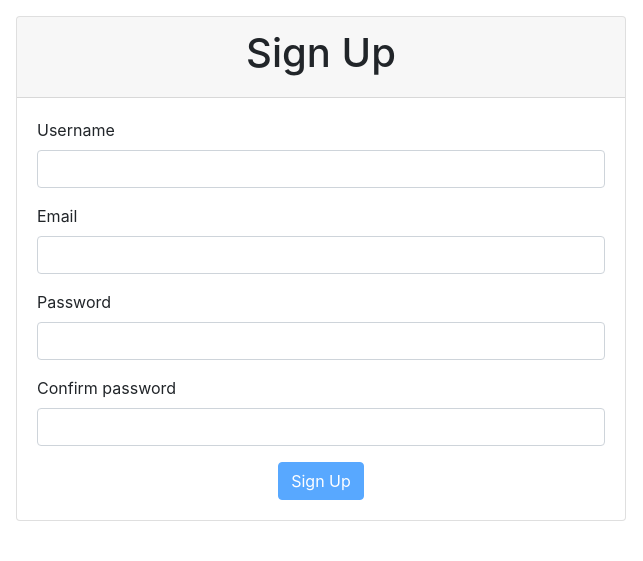
it: Sign Up page › interactions › displays a spinner while request is in progress
Type "Joe Blow" into the field labelled "Username".
click(321, 169); type("Joe Blow")  # box [37,150,605,188]
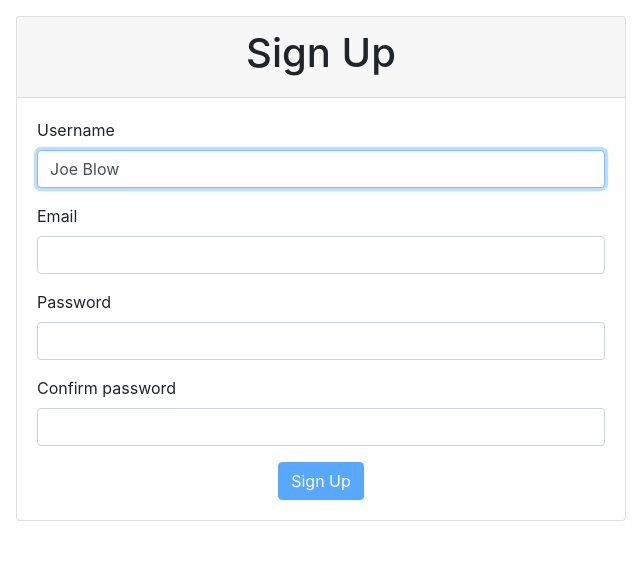
Type "user123@example.com" into the field labelled "Email".
click(321, 255); type("user123@example.com")  # box [37,236,605,274]
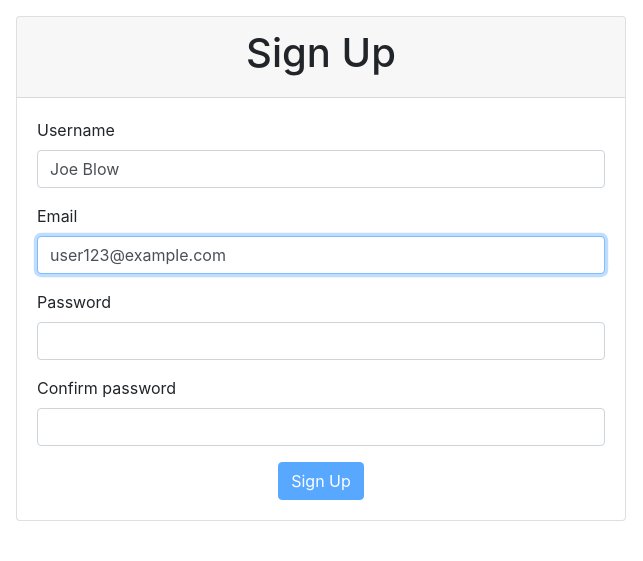
Type "abc123" into the password field labelled "Password".
click(321, 341); type("abc123")  # box [37,322,605,360]
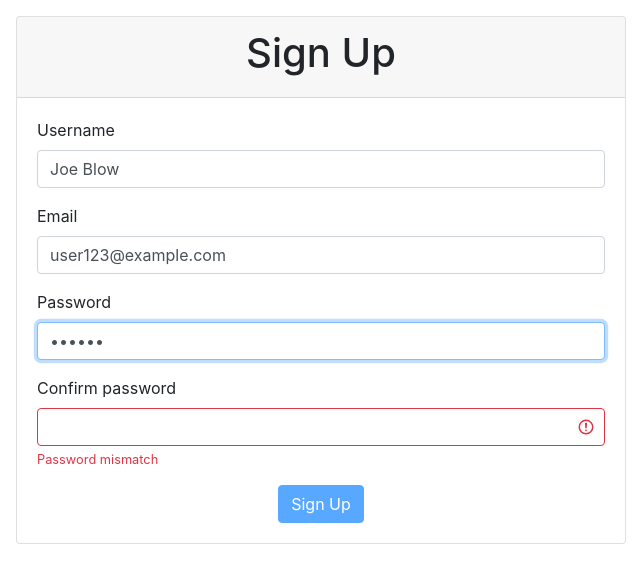
Type "abc123" into the password field labelled "Confirm password".
click(321, 427); type("abc123")  # box [37,408,605,446]
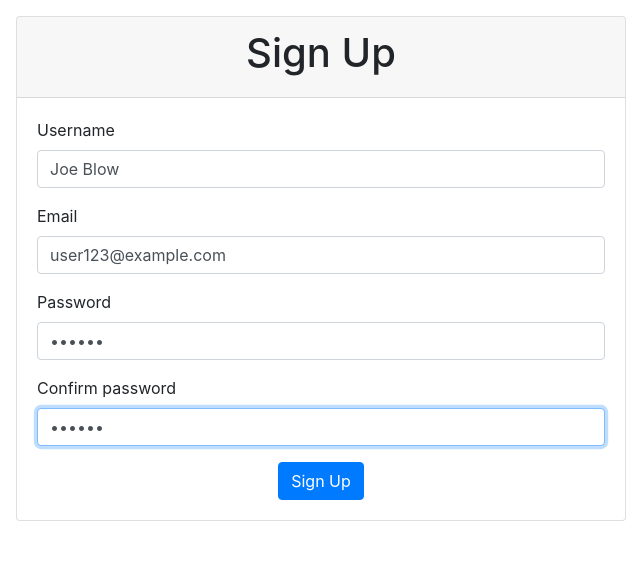
Click the button "Sign Up".
click(321, 481)  # box [278,462,364,500]
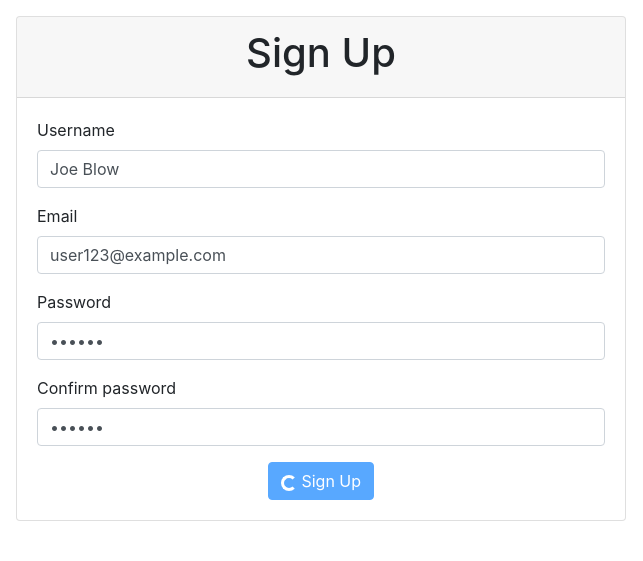
Now the message with test id "spinner" is shown, box [281,475,297,491]
